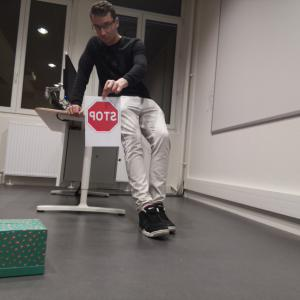stop: (87, 100, 119, 133)
